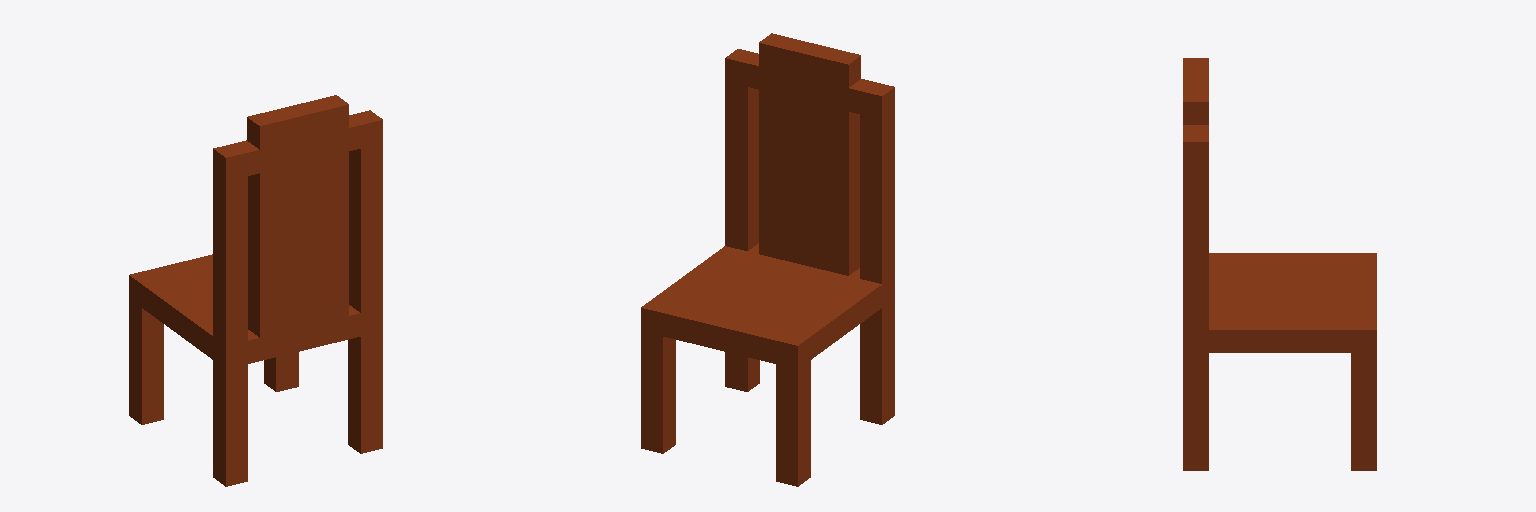
The picture shows the model from 3 angles: view 1: azimuth 30°, elevation 25°; view 2: azimuth 150°, elevation 25°; view 3: azimuth 270°, elevation 25°; orthographic projection.
Parts seen in each view (by area): view 1: cuboid, cube, seat; view 2: cuboid, seat, cube; view 3: seat, cube, cuboid.
Boxes of the visible parts, <box> form: cuboid: <box>213,95,382,345</box>; cube: <box>129,110,382,486</box>; seat: <box>129,254,382,368</box>; cuboid: <box>725,33,894,283</box>; seat: <box>641,243,894,368</box>; cube: <box>641,49,894,486</box>; seat: <box>1183,253,1376,352</box>; cube: <box>1183,125,1376,470</box>; cuboid: <box>1183,58,1208,329</box>.
Size of the model in its own units: 0.875 by 1.88 by 0.9375.
Materials: 1 (1 with a texture image).